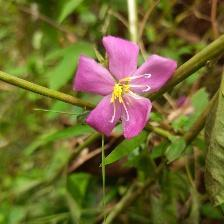malabar melastome: (74, 35, 179, 138)
